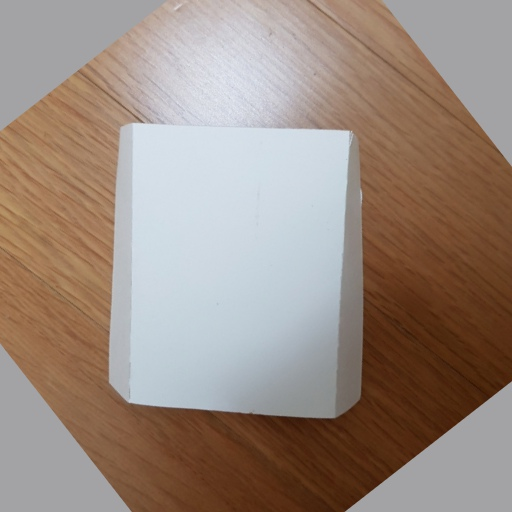Paper_3: (88, 113, 386, 430)
